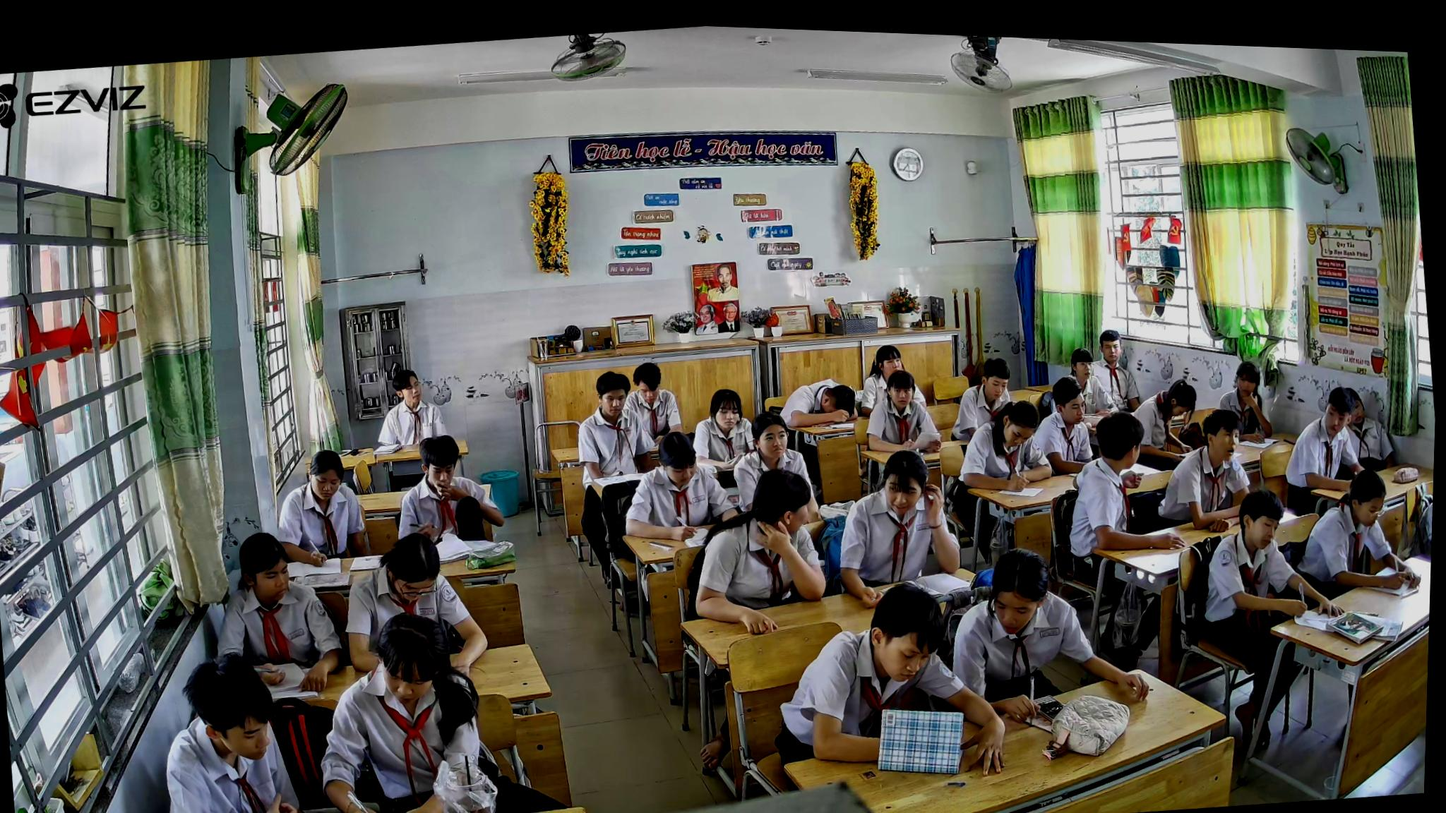person: (755, 568, 1017, 799), (1181, 479, 1364, 758), (301, 599, 526, 813), (936, 532, 1157, 734), (674, 461, 837, 645), (152, 646, 329, 813), (563, 365, 678, 610), (1053, 405, 1193, 605), (201, 523, 353, 703), (334, 524, 496, 684), (826, 443, 971, 614), (1284, 461, 1426, 604), (614, 423, 746, 550), (1144, 404, 1258, 541), (387, 427, 510, 552), (1274, 381, 1378, 519), (266, 444, 376, 573), (774, 373, 872, 507), (367, 365, 455, 494), (948, 394, 1057, 497), (726, 406, 815, 515), (1026, 372, 1110, 479), (858, 365, 948, 461), (685, 385, 762, 496), (1126, 376, 1209, 475), (1033, 343, 1122, 423), (945, 355, 1020, 449), (1327, 381, 1400, 476), (848, 340, 932, 420), (618, 358, 686, 442), (1084, 325, 1146, 417), (1213, 358, 1275, 445)
